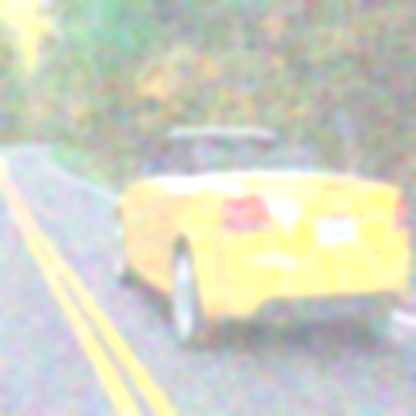Vehicle: (115, 130, 410, 351)
